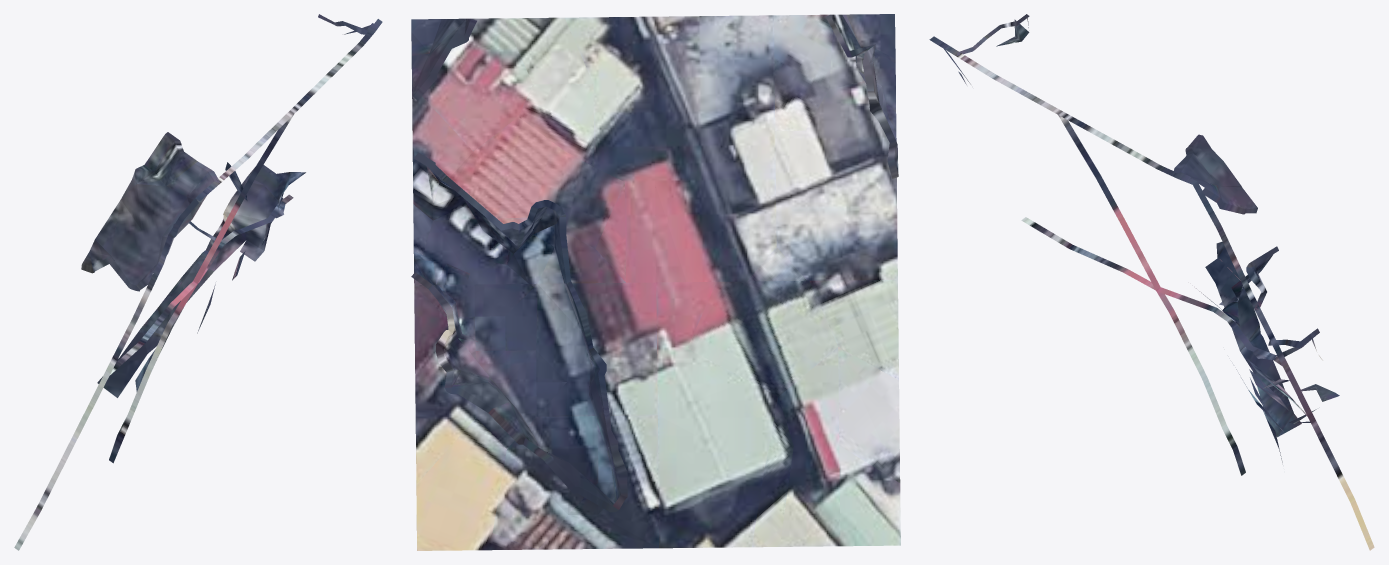
3 views of the same model, side by side, from view 1: azimuth 30°, elevation 25°; view 2: azimuth 150°, elevation 25°; view 3: azimuth 270°, elevation 25° (orthographic). The views are drawn at different scales.
Bounding box in the file's own units: 37.17 × 37.02 × 33.89.
Materials: 1 (1 with a texture image).
